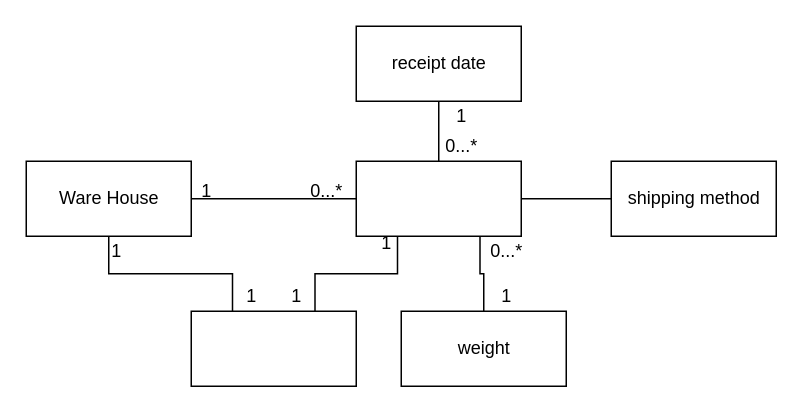
The diagram is 803 pixels wide and 413 high, and some of its shapes have lost their labels. The box of each missing label's shape, as (x1, y1, x2, y2) in pixels:
id: (190, 310, 356, 386)
Shipment: (355, 160, 521, 236)
